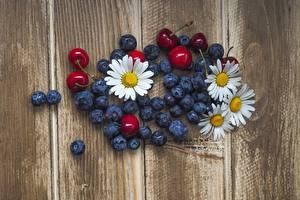chamomile: (106, 56, 160, 102), (207, 62, 243, 101), (226, 90, 257, 125), (199, 108, 235, 138)
